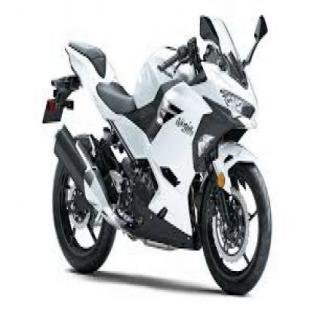Motocicleta: (38, 6, 281, 294)
